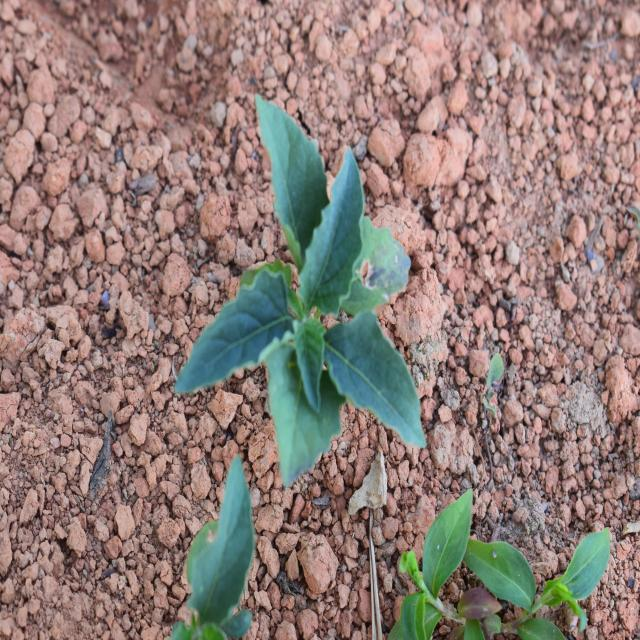Black_nightshade: (189, 104, 413, 481)
